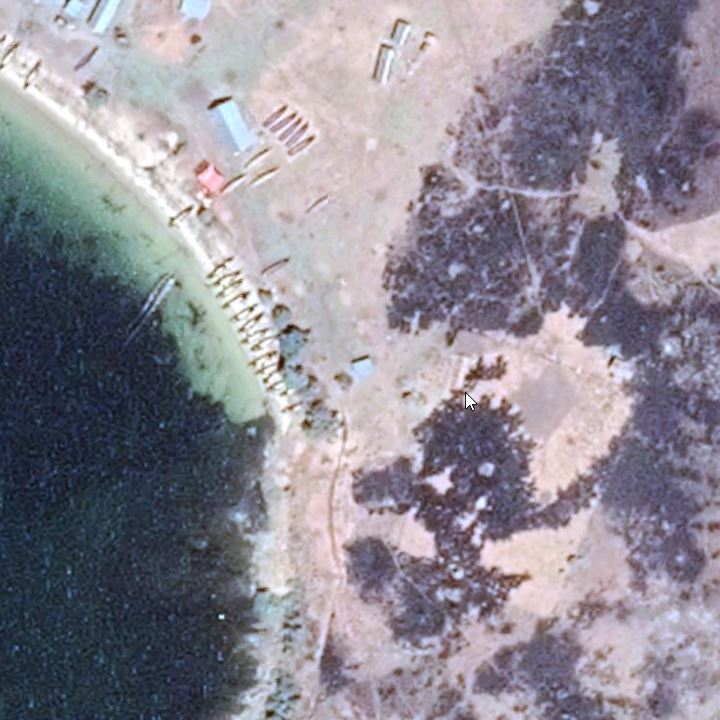boat: (67, 42, 106, 76), (1, 33, 27, 78), (228, 297, 263, 329), (21, 54, 46, 95), (248, 164, 284, 191), (165, 201, 196, 232), (285, 134, 320, 159), (251, 356, 284, 382), (286, 119, 314, 149), (237, 308, 266, 336), (220, 170, 248, 199), (242, 146, 272, 173), (261, 254, 292, 280), (211, 267, 246, 290), (215, 277, 248, 301), (280, 114, 306, 144), (270, 111, 301, 136), (306, 191, 330, 222), (245, 333, 277, 356), (220, 289, 252, 312), (207, 255, 235, 281), (248, 346, 279, 369), (239, 324, 269, 347), (264, 102, 289, 128), (261, 363, 284, 386), (282, 399, 306, 415), (266, 378, 289, 394)
